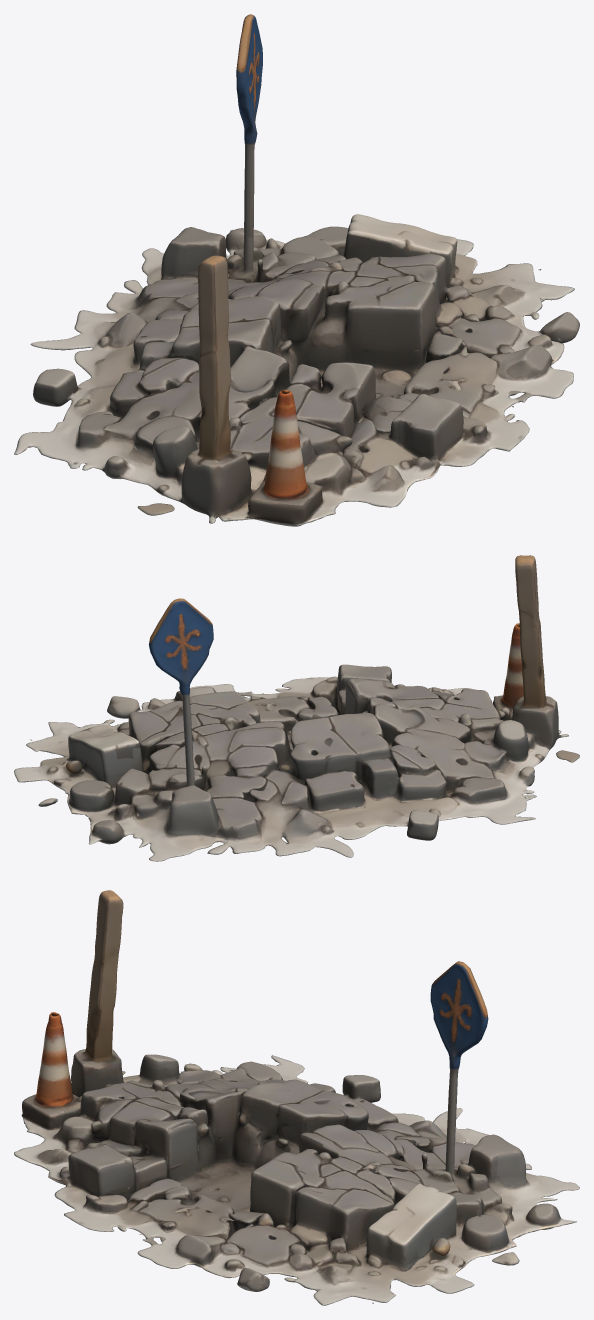
File: SM_Environment_CrackedStonePlatform_01.fbx
The picture shows the model from 3 angles, top to bottom: view 1: azimuth 30°, elevation 25°; view 2: azimuth 150°, elevation 25°; view 3: azimuth 270°, elevation 25°; orthographic projection. The views are drawn at different scales.
Parts seen in each view (by area): view 1: SM_Environment_CrackedStonePlatform_01; view 2: SM_Environment_CrackedStonePlatform_01; view 3: SM_Environment_CrackedStonePlatform_01.
Boxes of the visible parts, box(x1,y1,x2,y2) form: SM_Environment_CrackedStonePlatform_01: box(14, 14, 579, 526); SM_Environment_CrackedStonePlatform_01: box(14, 555, 579, 861); SM_Environment_CrackedStonePlatform_01: box(14, 890, 579, 1305).
Bounding box in the file's own units: 0.9955 × 0.465 × 0.9523.
Materials: 1 (1 with a texture image).
